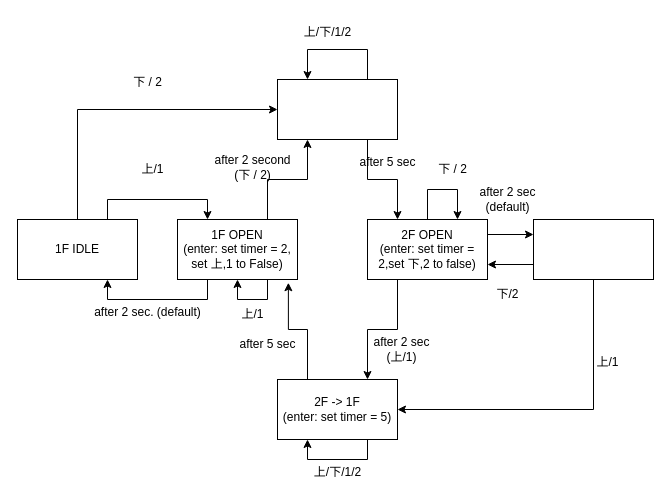
Image size: 671x504. Some labels were removed from this diagram. Here are the shapes that lost their labels. From the top down, the centre of each, then its label:
point 337,109: 1F -> 2F (enter: set timer = 5)
point 593,249: 2F IDLE
